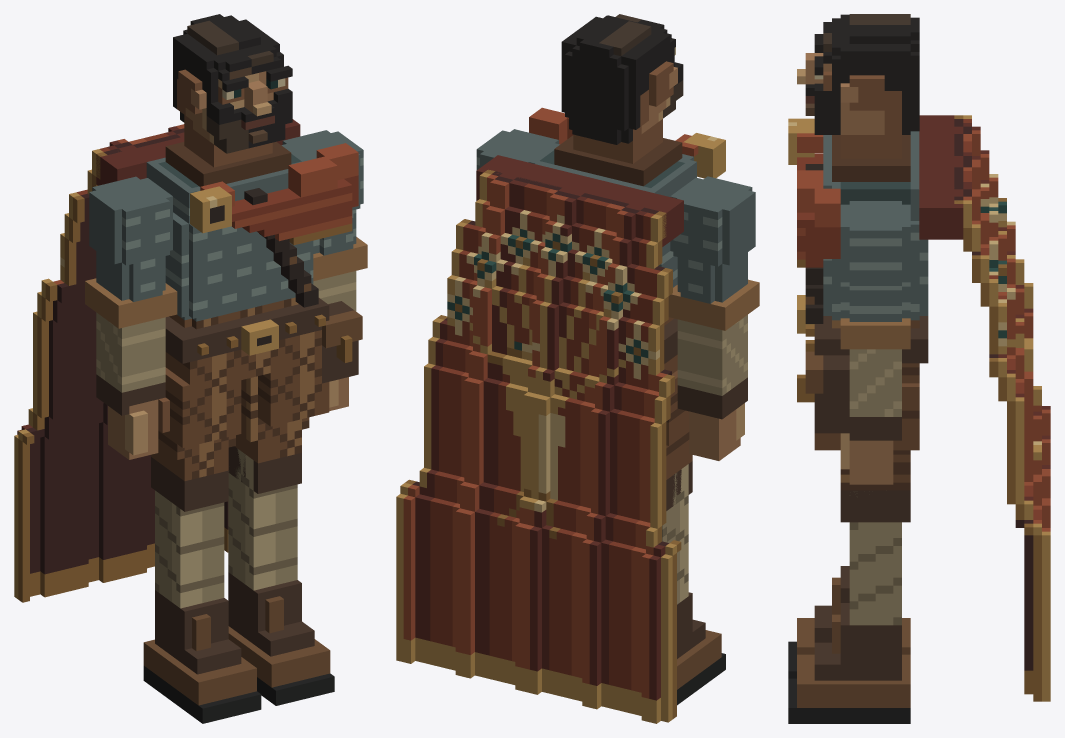
The model's file is mercenary-voxel.glb.
The picture shows the model from 3 angles, left to right: view 1: azimuth 30°, elevation 25°; view 2: azimuth 150°, elevation 25°; view 3: azimuth 270°, elevation 25°; orthographic projection. The views are drawn at different scales.
Parts seen in each view (by area): view 1: torso, cape, rightShin, leftShin, head, rightUpperArm, rightForearm, rightThigh, leftThigh, leftUpperArm, leftForearm; view 2: cape, torso, head, rightUpperArm, rightForearm, rightShin, leftUpperArm, rightThigh; view 3: torso, cape, leftShin, head, leftUpperArm, leftForearm, leftThigh, rightShin.
Part boxes in pixels (box(x1,y1,x2,y2)): torso: box(96, 119, 362, 447); cape: box(14, 124, 228, 602); rightShin: box(143, 490, 261, 723); leftShin: box(228, 448, 334, 705); head: box(173, 14, 292, 153); rightUpperArm: box(85, 176, 177, 328); rightForearm: box(96, 312, 169, 459); rightThigh: box(151, 352, 235, 511); leftThigh: box(228, 376, 309, 493); leftUpperArm: box(281, 130, 367, 281); leftForearm: box(313, 271, 356, 410); cape: box(396, 169, 681, 723); torso: box(476, 107, 725, 445); head: box(561, 14, 683, 144); rightUpperArm: box(668, 176, 759, 330); rightForearm: box(677, 315, 747, 460); rightShin: box(662, 464, 725, 705); leftUpperArm: box(476, 129, 559, 169); rightThigh: box(666, 355, 692, 510); torso: box(788, 115, 963, 450); cape: box(954, 115, 1050, 701); leftShin: box(788, 522, 910, 723); head: box(797, 14, 919, 134); leftUpperArm: box(840, 201, 910, 349); leftForearm: box(840, 349, 901, 484); leftThigh: box(840, 369, 910, 522); rightShin: box(788, 566, 910, 678).
Bounding box in the file's own units: 0.9 × 2.1 × 0.75.
